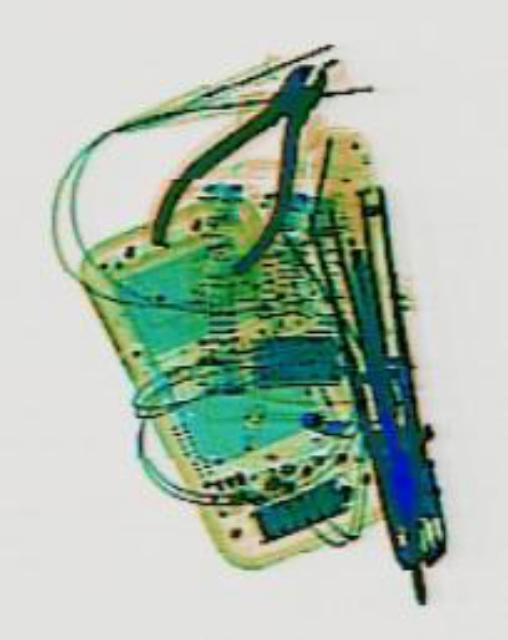Pliers: (137, 21, 351, 302)
